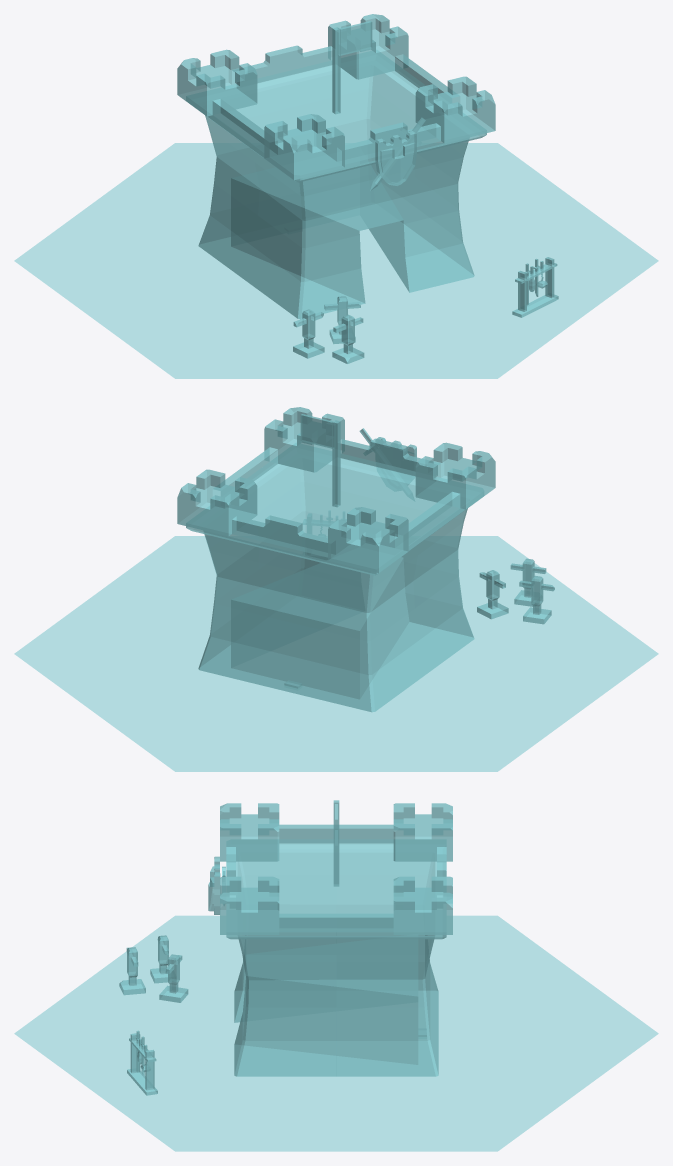
File: Camp_blueprint_fbx.fbx
3 views of the same model, one above another, from view 1: azimuth 30°, elevation 25°; view 2: azimuth 150°, elevation 25°; view 3: azimuth 270°, elevation 25° (orthographic).
Visible parts, largest first — view 1: 立方体; view 2: 立方体; view 3: 立方体.
Boxes of the visible parts, x1,y1,x2,y2 form: 立方体: (14,14,658,378); 立方体: (14,407,658,771); 立方体: (14,800,658,1151).
Bounding box in the file's own units: 520 × 240 × 600.
